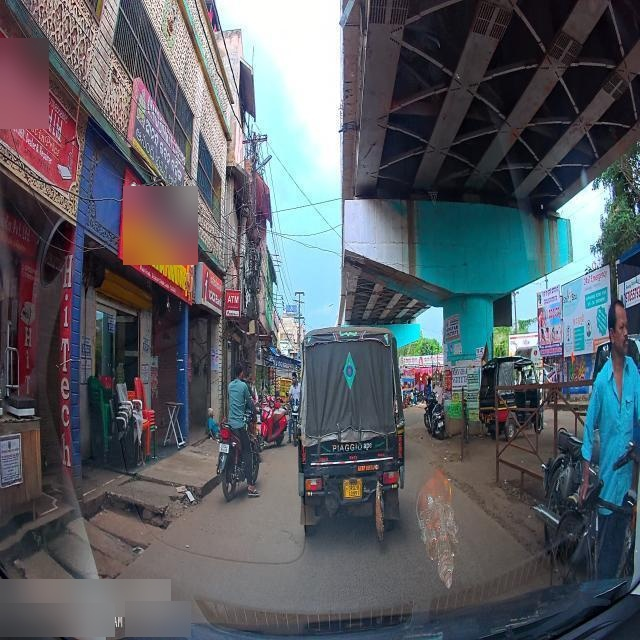pothole: (46, 532, 119, 580), (108, 488, 166, 534)
